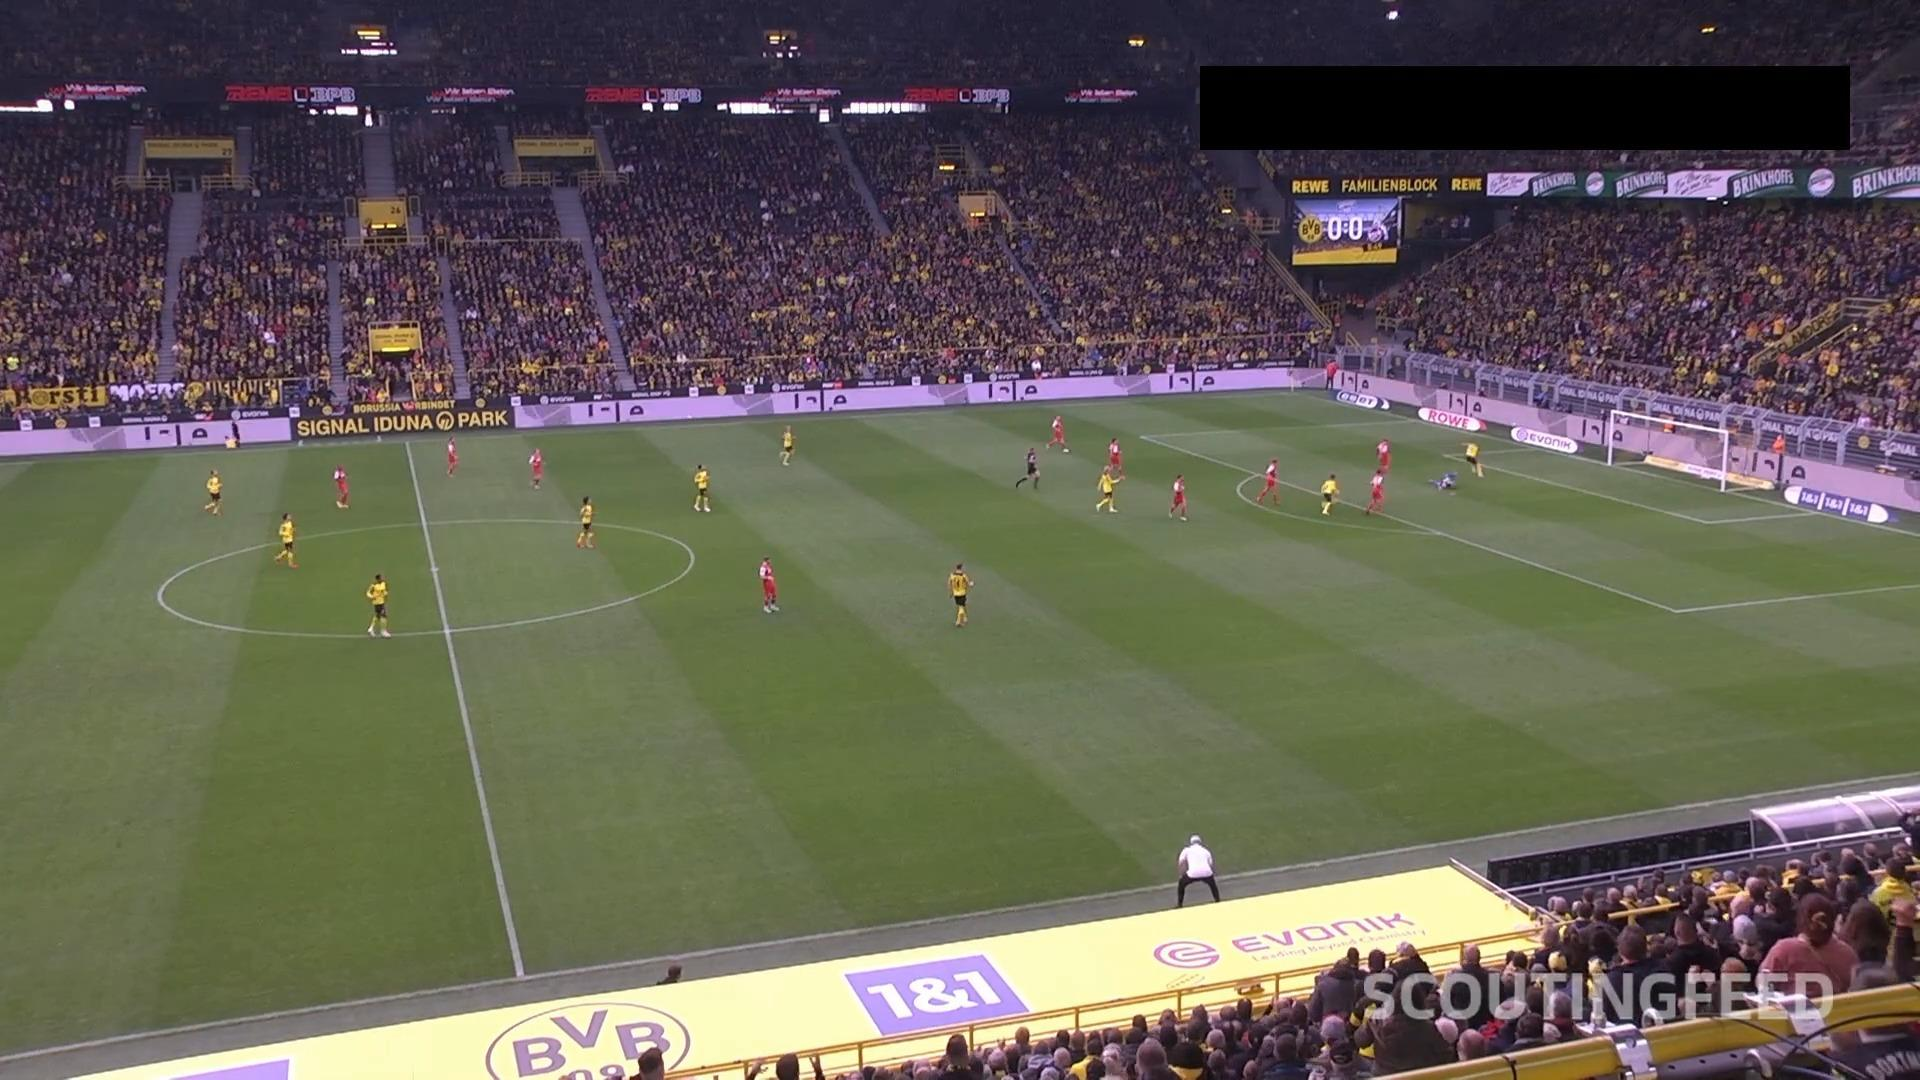coach: (1175, 833, 1220, 907)
player: (947, 561, 973, 626), (365, 572, 390, 638), (273, 512, 297, 568), (757, 556, 779, 613), (1255, 457, 1280, 505), (1093, 466, 1117, 513), (575, 494, 595, 548), (1363, 468, 1385, 514), (1167, 472, 1188, 520), (691, 463, 711, 512), (1045, 413, 1069, 452), (203, 468, 222, 515), (1318, 471, 1338, 515), (331, 464, 349, 508), (1106, 436, 1124, 478), (1463, 440, 1483, 477), (527, 447, 544, 489), (778, 424, 794, 465), (1374, 437, 1390, 474), (1433, 469, 1457, 491), (445, 437, 458, 476)
referee: (224, 412, 251, 456), (1014, 446, 1040, 490), (1323, 356, 1336, 389)
